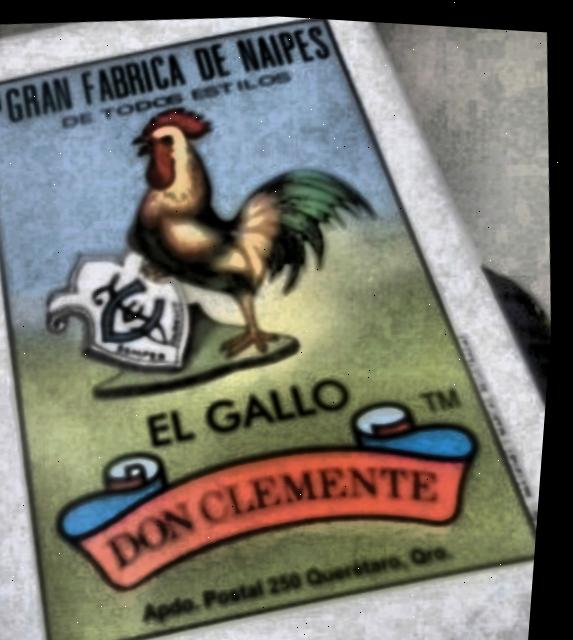Gallo: (0, 15, 544, 640)
